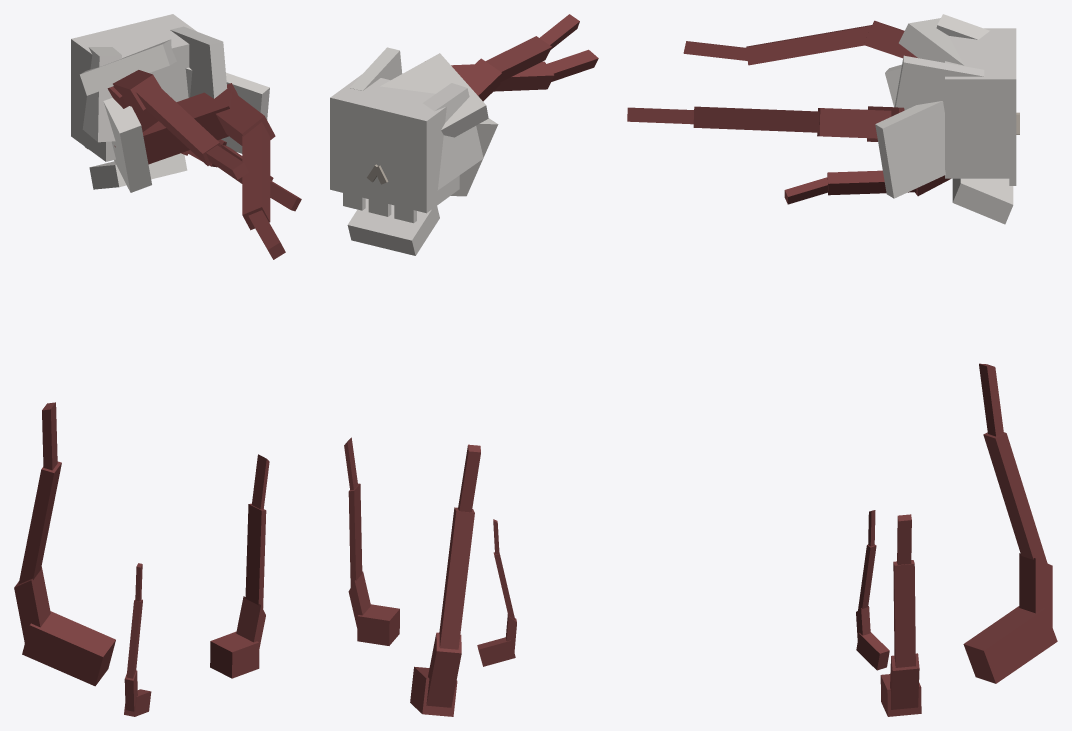
Rendered from shooting enemy.fbx.
The picture shows the model from 3 angles, left to right: view 1: azimuth 30°, elevation 25°; view 2: azimuth 150°, elevation 25°; view 3: azimuth 270°, elevation 25°; orthographic projection. The views are drawn at different scales.
Parts seen in each view (by area): view 1: mesh, mesh_1, mesh_2, mesh_3; view 2: mesh, mesh_1, mesh_2, mesh_3; view 3: mesh, mesh_1, mesh_2, mesh_3.
Boxes of the visible parts, box(x1,y1,x2,y2) form: mesh: box(71, 14, 301, 259); mesh_1: box(14, 402, 115, 686); mesh_2: box(210, 454, 269, 678); mesh_3: box(124, 563, 151, 716); mesh: box(330, 14, 598, 255); mesh_1: box(410, 444, 480, 716); mesh_2: box(344, 437, 399, 645); mesh_3: box(477, 519, 516, 666); mesh: box(627, 14, 1019, 224); mesh_1: box(963, 363, 1057, 683); mesh_2: box(880, 514, 921, 716); mesh_3: box(856, 510, 889, 670).
Size of the model in its own units: 28.19 by 94.37 by 54.88.
Materials: 1 (1 with a texture image).
